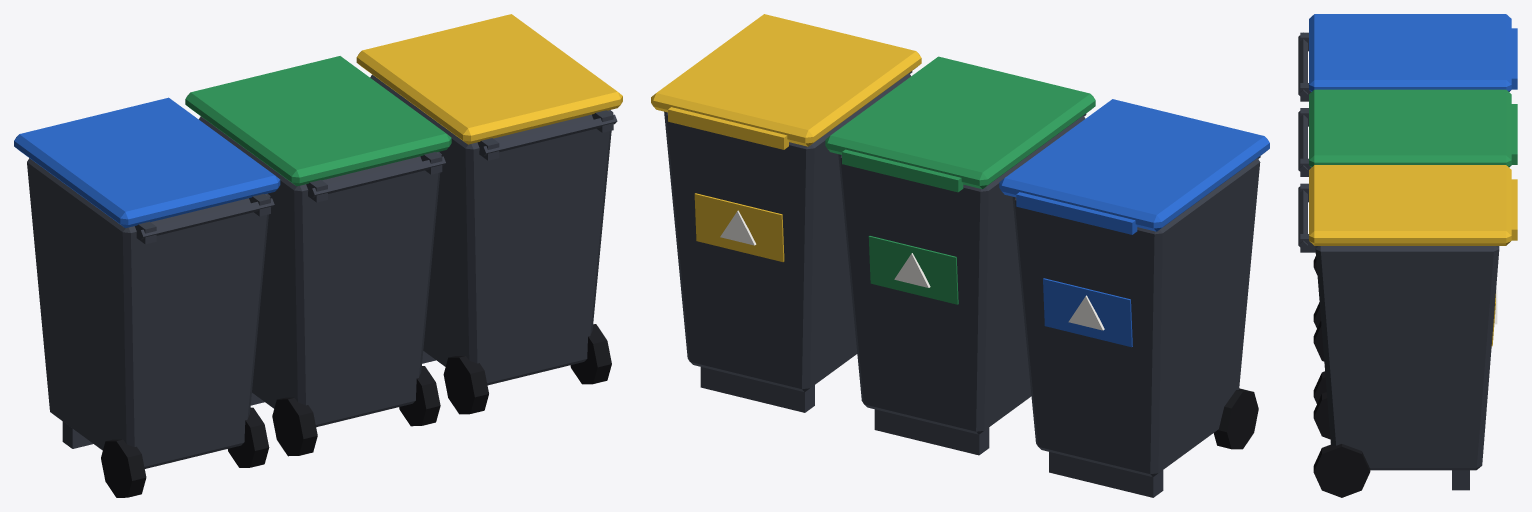
Rendered from recycling_bins.glb.
3 renders of one model, left to right at view 1: azimuth 30°, elevation 25°; view 2: azimuth 150°, elevation 25°; view 3: azimuth 270°, elevation 25°, orthographic. The views are drawn at different scales.
Parts seen in each view (by area): view 1: recycling_bins; view 2: recycling_bins; view 3: recycling_bins.
Part boxes in pixels (x1,y1,x2,y2): recycling_bins: [14, 14, 622, 497]; recycling_bins: [651, 14, 1269, 497]; recycling_bins: [1298, 14, 1517, 497].
Bounding box in the file's own units: 1.76 × 0.9995 × 0.736.
